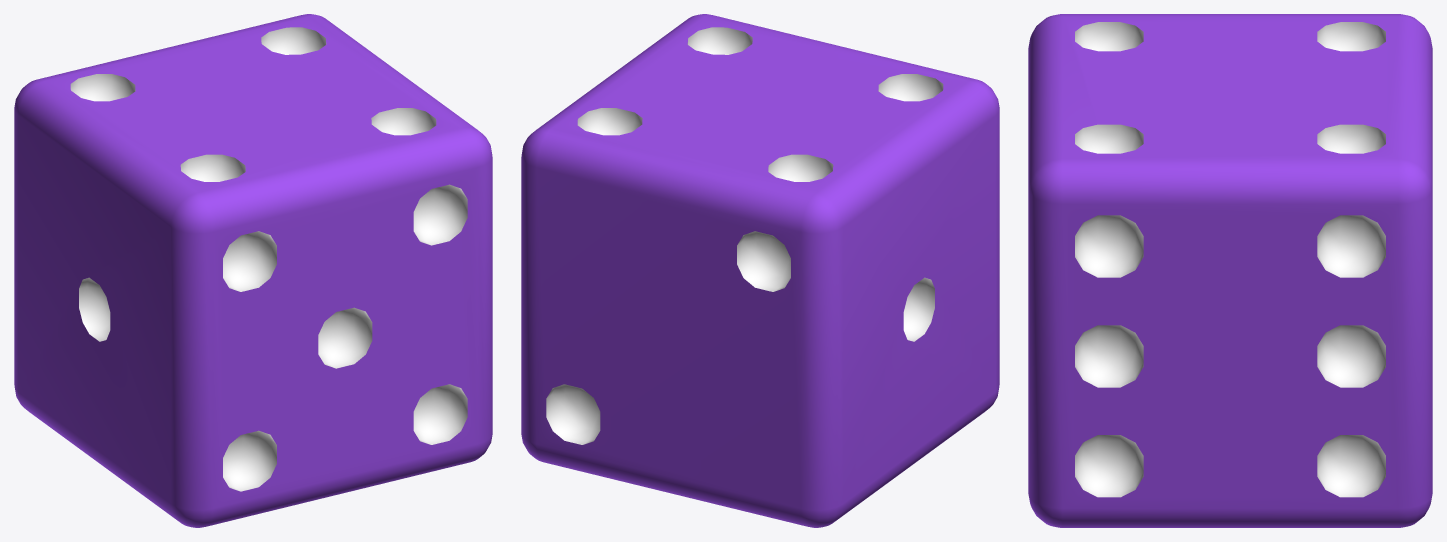
File: dice_purple.fbx
3 views of the same model, side by side, from view 1: azimuth 30°, elevation 25°; view 2: azimuth 150°, elevation 25°; view 3: azimuth 270°, elevation 25° (orthographic). The views are drawn at different scales.
Parts seen in each view (by area): view 1: dice_purple; view 2: dice_purple; view 3: dice_purple.
Boxes of the visible parts, x1,y1,x2,y2 form: dice_purple: [14, 14, 492, 527]; dice_purple: [521, 14, 999, 527]; dice_purple: [1028, 14, 1432, 527].
Bounding box in the file's own units: 5 × 5 × 5.
1 material, 1 textured.
